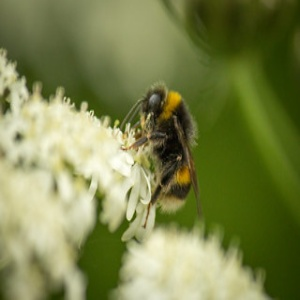bee: (124, 81, 204, 222)
